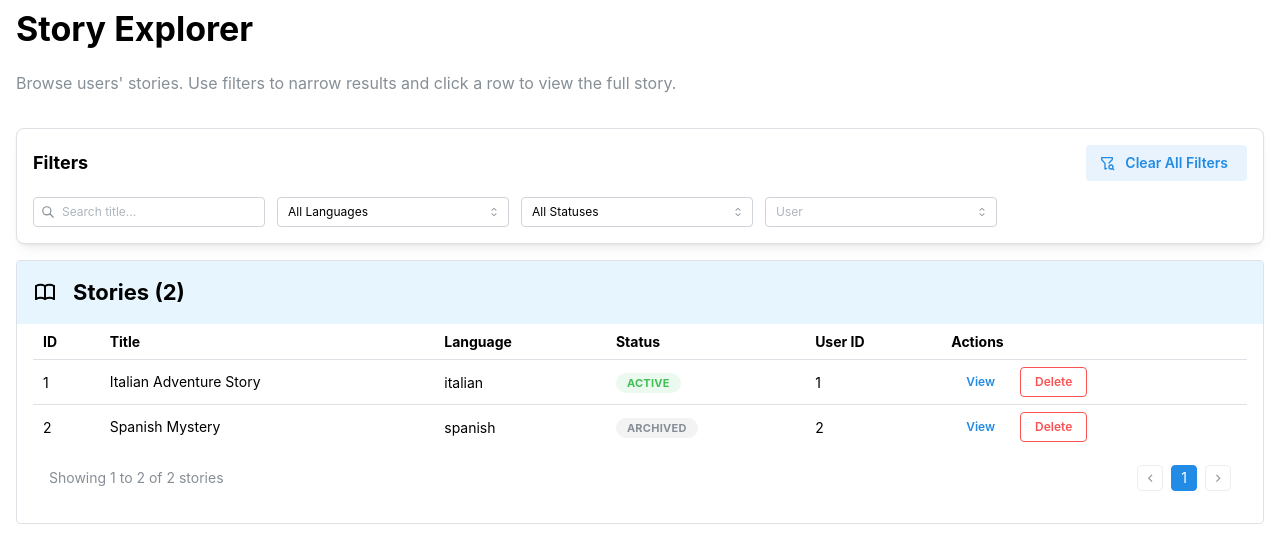
StoryExplorerPage › Filtering › allows clearing filters
Note: Apply some filters first
Type "Adventure" into the field with placeholder "Search title..." at [149, 212], box [33,197,265,227]
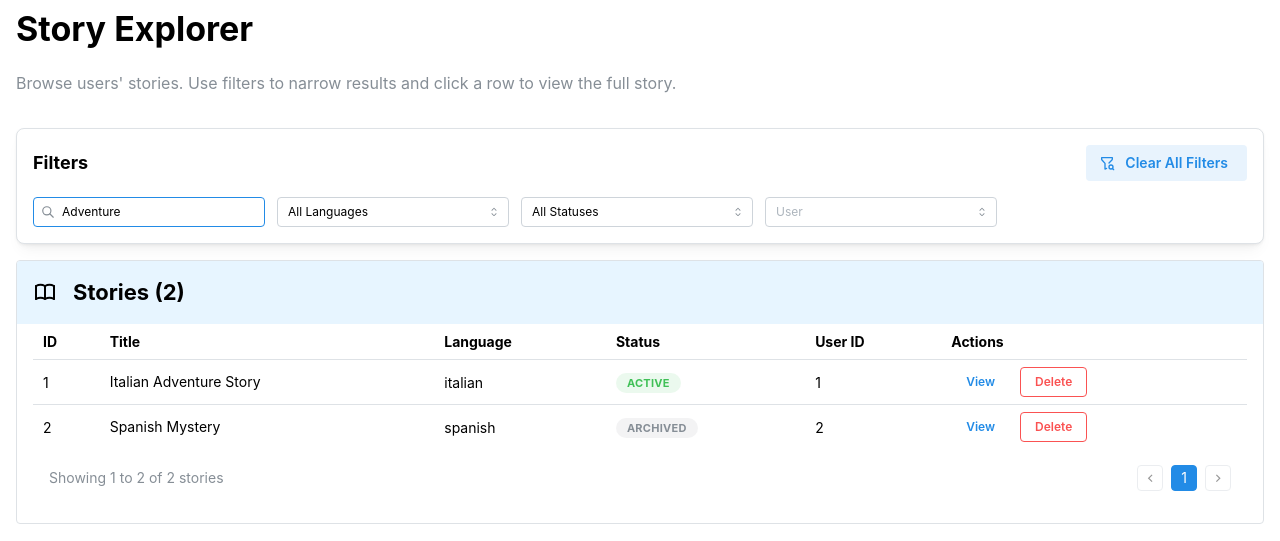
Note: Click clear all button
Click the button "Clear All Filters" at [1167, 163], box [1086,145,1247,181]
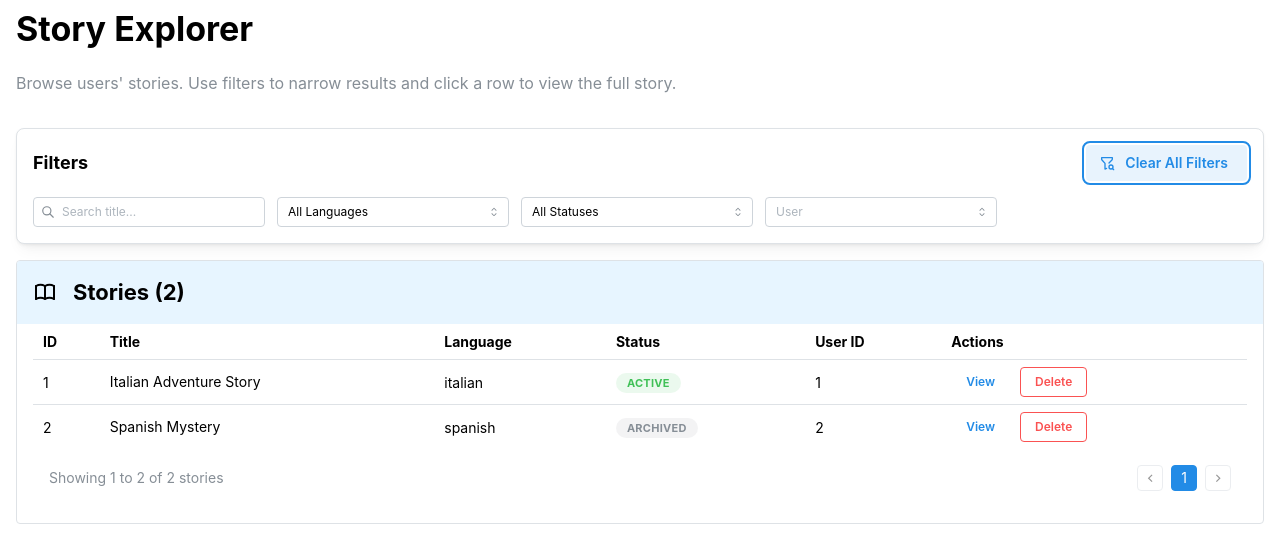
Check: the field with placeholder "Search title..." is empty, box [33,197,265,227]
